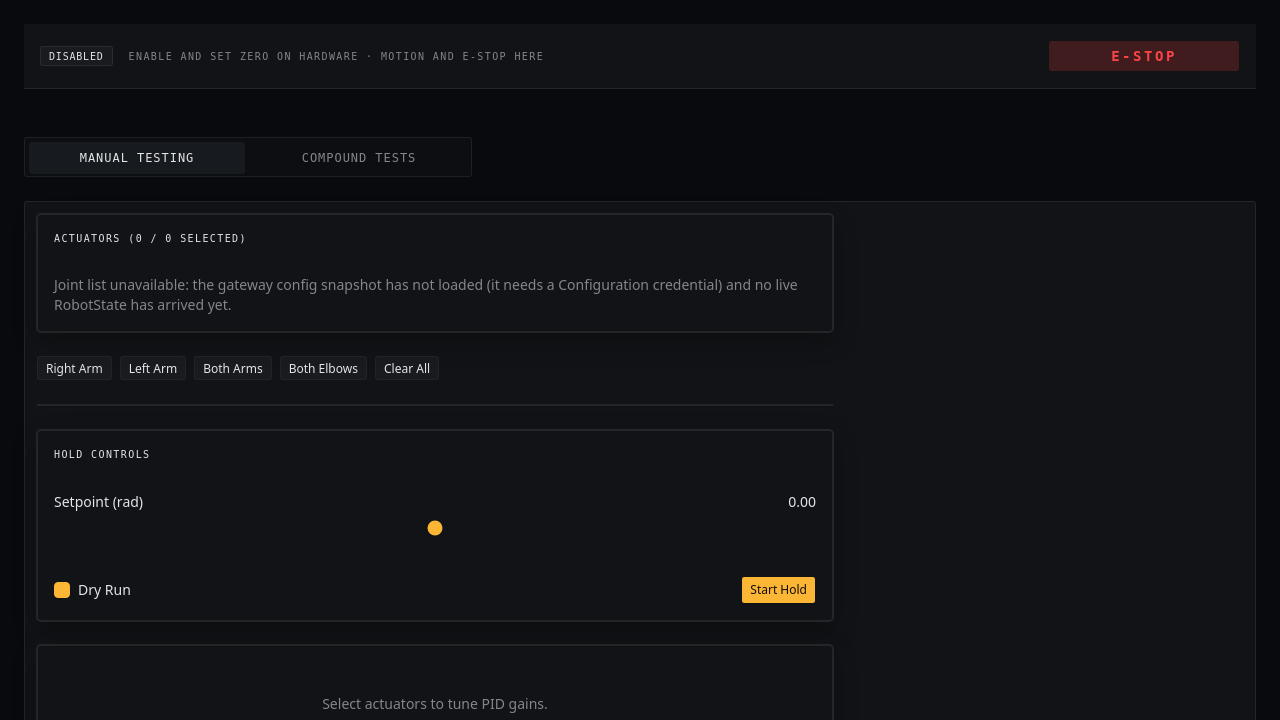
Test: TestingOverview — commissioning cutover › E-STOP sends the stop on the first click (UI-01)
Step 1. Click the button "E-STOP" → (1144,56), box top-left (1048, 40), bottom-right (1240, 72)
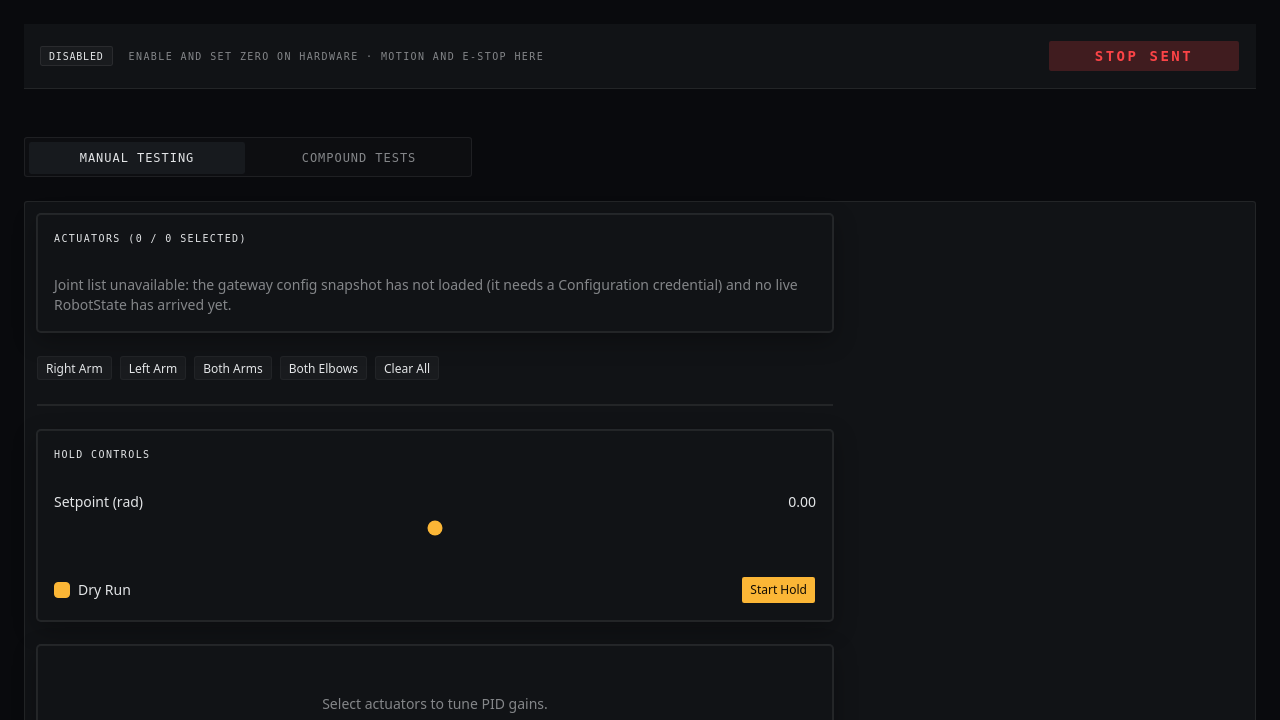
Expected: the button "STOP SENT" is shown, top-left (1048, 40), bottom-right (1240, 72)
